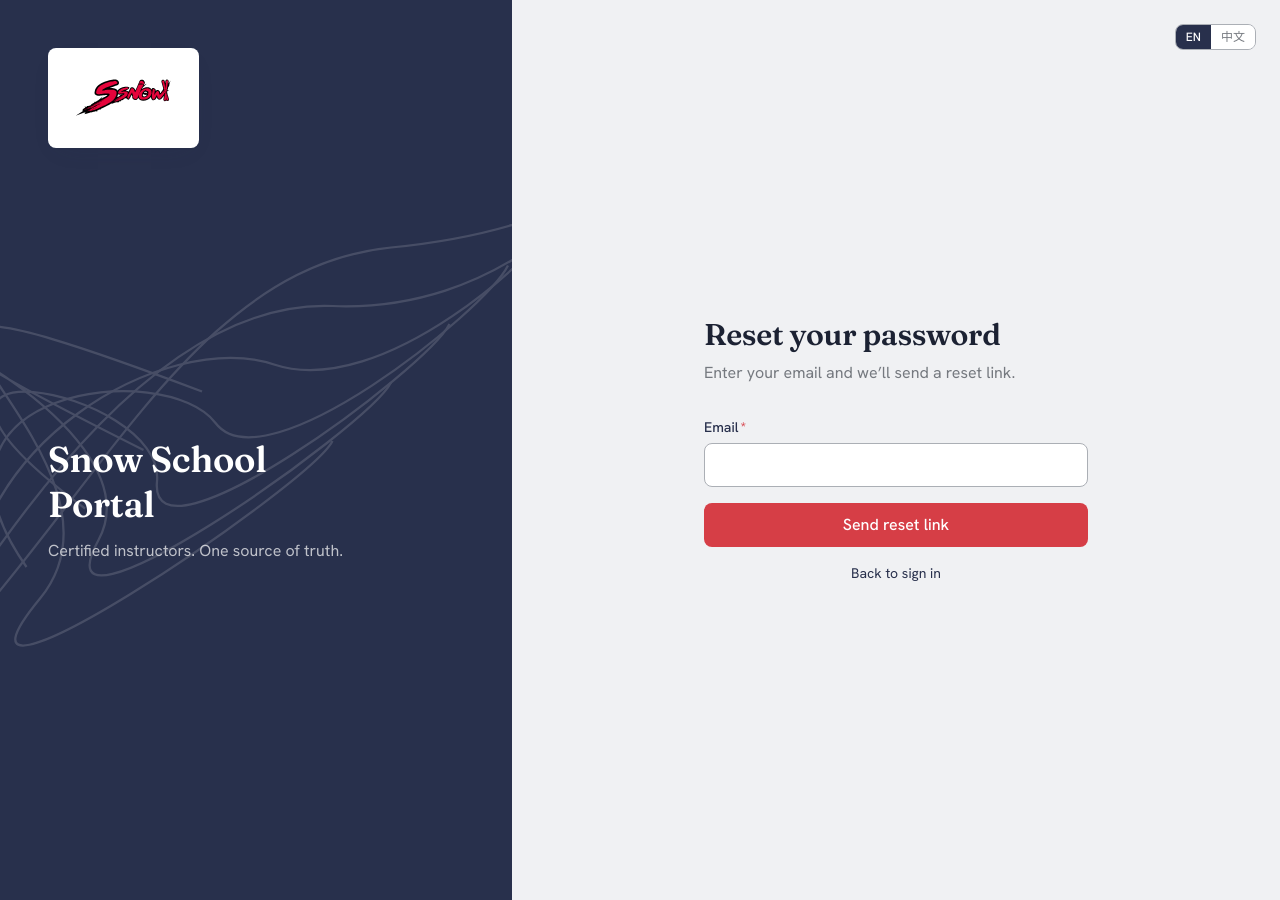
RequestResetPage › sends a reset email without starting a countdown of its own
Step 1. Type "jane@example.com" into the field labelled "Email*" → [896, 465], box 704,443 -> 1088,487
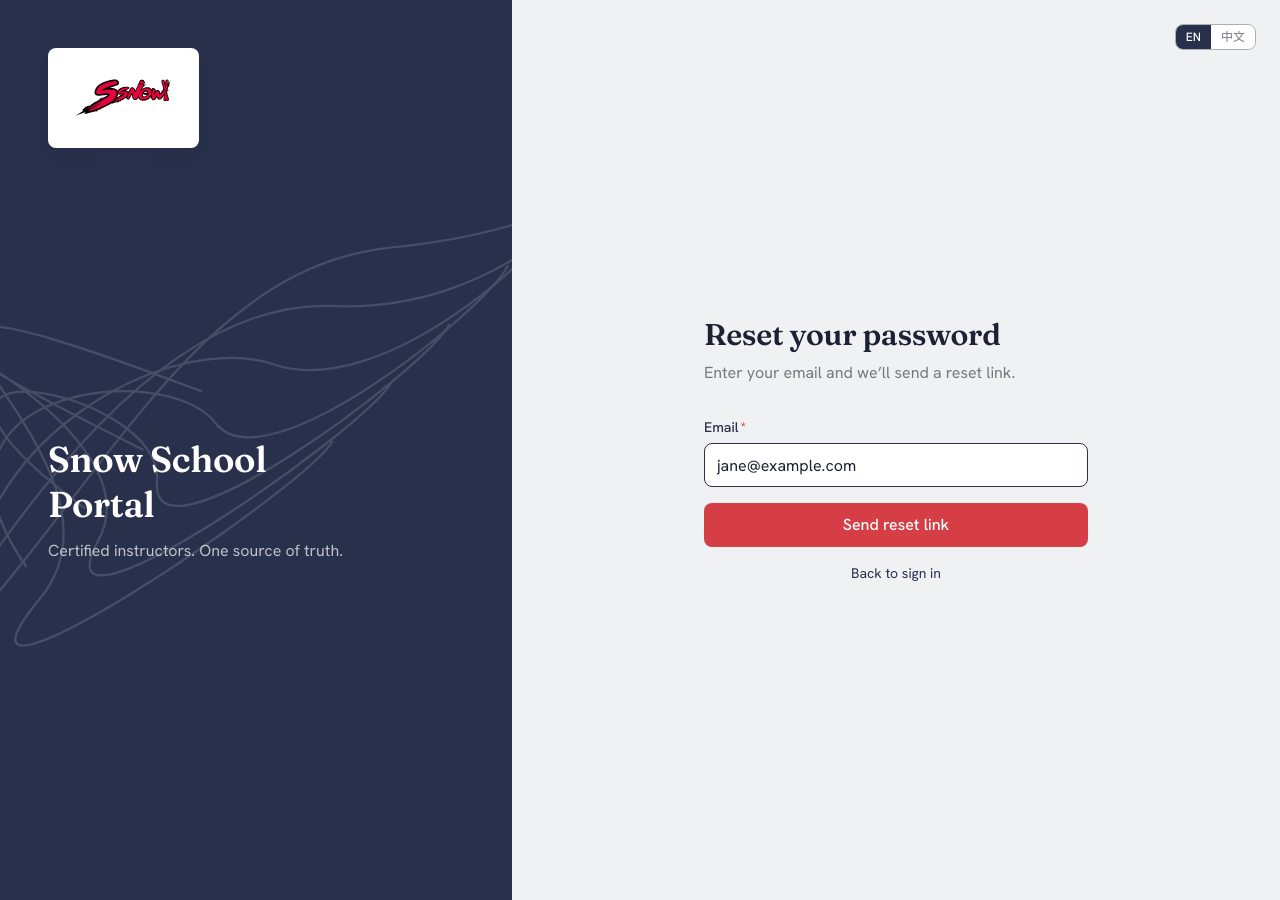
Step 2. Click the button named "Send reset link" → [896, 525], box 704,503 -> 1088,547
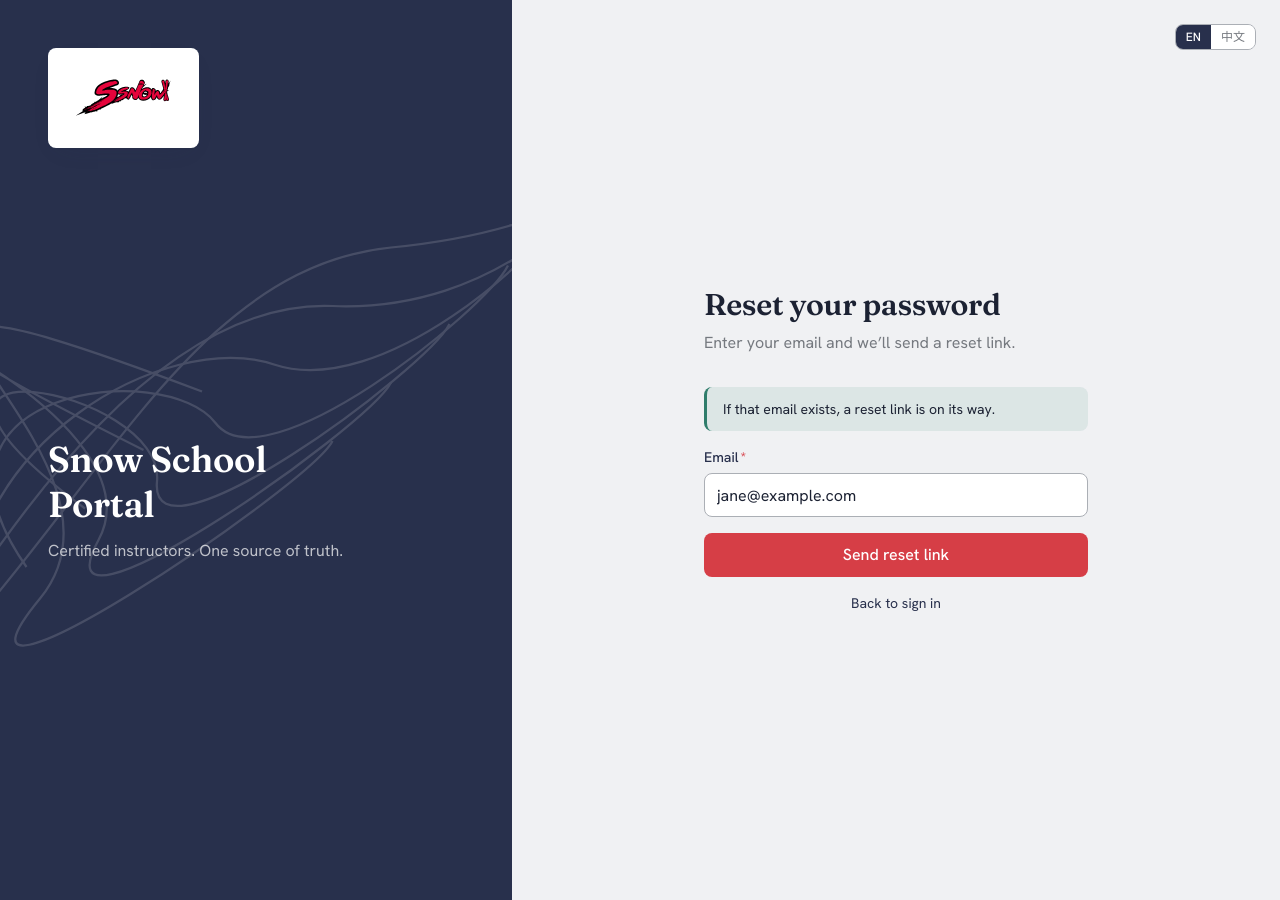
Check: the button named "Send reset link" is enabled, box 704,533 -> 1088,577
Check: the text "If that email exists, a reset link is on its way." is shown, box 723,400 -> 995,418
